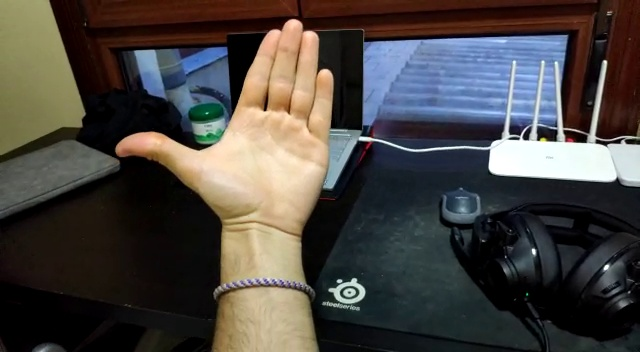Palm: (114, 18, 334, 249)
